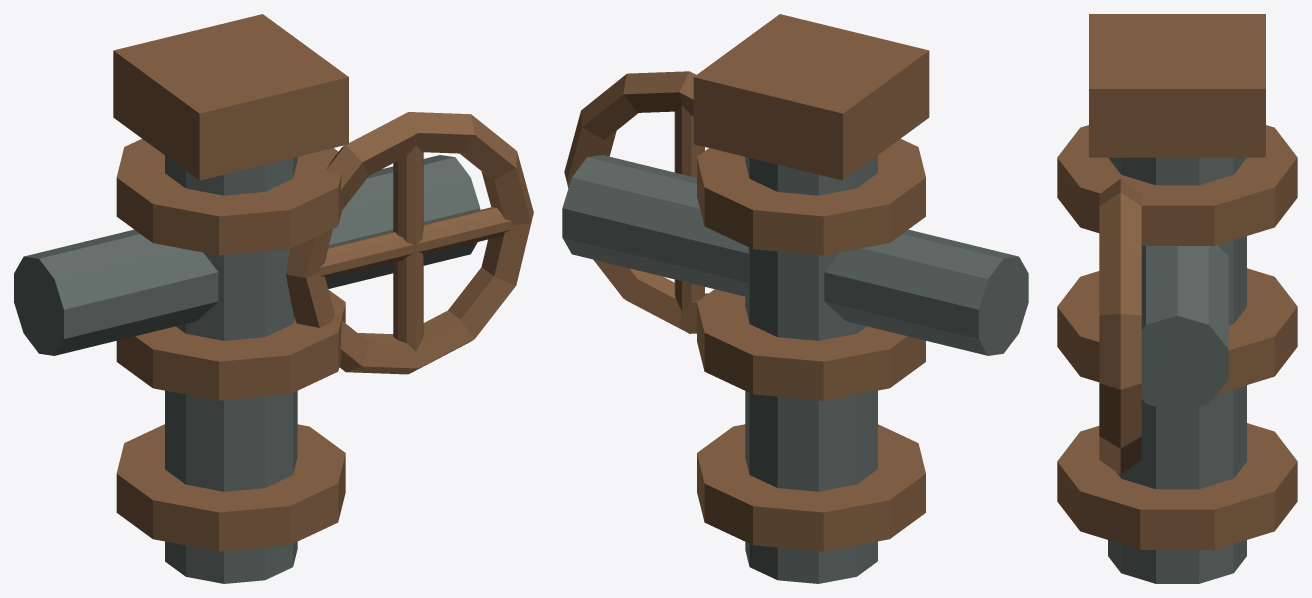
The model's file is v2_oil_well.glb.
3 renders of one model, left to right at view 1: azimuth 30°, elevation 25°; view 2: azimuth 150°, elevation 25°; view 3: azimuth 270°, elevation 25°, orthographic. The views are drawn at different scales.
Parts seen in each view (by area): view 1: Cylinder; view 2: Cylinder; view 3: Cylinder.
Part boxes in pixels (x1,y1,x2,y2): Cylinder: (14, 14, 533, 583); Cylinder: (562, 14, 1028, 583); Cylinder: (1057, 14, 1297, 583).
Size of the model in its own units: 1.34 by 1.34 by 0.5808.
